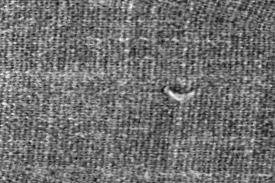snag: (159, 77, 201, 106)
